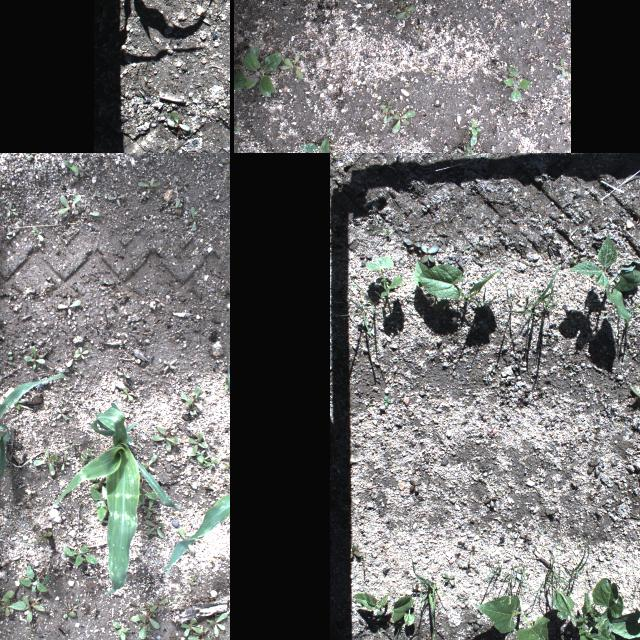crop: (54, 403, 188, 595), (0, 373, 68, 564), (569, 235, 640, 323), (166, 484, 230, 575), (545, 578, 623, 640), (412, 259, 500, 303), (476, 597, 554, 640), (352, 594, 422, 630), (608, 577, 640, 640), (366, 254, 404, 302), (226, 352, 230, 411)
weed: (508, 264, 560, 320), (409, 567, 438, 640), (242, 46, 282, 98), (334, 294, 374, 334), (130, 600, 167, 640), (403, 235, 443, 265), (90, 484, 118, 526), (17, 565, 51, 599), (502, 66, 534, 102), (32, 450, 70, 480), (484, 564, 524, 592), (147, 422, 180, 454), (56, 543, 95, 569), (0, 587, 25, 623), (176, 384, 202, 418), (540, 541, 558, 589), (186, 430, 208, 466), (449, 136, 493, 153), (18, 596, 46, 622), (22, 346, 46, 374), (574, 544, 590, 586), (391, 108, 415, 134), (297, 135, 330, 153), (280, 54, 304, 78), (64, 345, 88, 369), (55, 193, 81, 215), (56, 294, 82, 316), (102, 188, 128, 208), (187, 204, 203, 234), (440, 570, 464, 590), (49, 406, 69, 428), (180, 616, 200, 638), (212, 613, 228, 639), (144, 490, 160, 516), (167, 112, 189, 130), (32, 528, 54, 546), (61, 602, 79, 624), (144, 522, 166, 540), (394, 5, 416, 22), (188, 628, 219, 640), (175, 175, 192, 195), (2, 201, 20, 219), (482, 489, 500, 507), (112, 621, 129, 640), (379, 100, 395, 120), (120, 388, 140, 404), (158, 356, 178, 372), (404, 478, 424, 494), (627, 381, 640, 405), (4, 224, 26, 238), (32, 224, 48, 242), (138, 178, 158, 192), (185, 568, 199, 588), (348, 542, 362, 562), (586, 459, 600, 478), (112, 366, 132, 379), (202, 454, 218, 470), (466, 616, 482, 632), (62, 160, 80, 174), (556, 58, 568, 78), (454, 538, 474, 550), (520, 531, 534, 547), (378, 394, 394, 408), (233, 70, 244, 90), (391, 0, 405, 15), (23, 153, 39, 165), (144, 456, 154, 474), (513, 398, 531, 408), (466, 122, 480, 134), (546, 415, 558, 429), (413, 21, 423, 37), (428, 69, 442, 77), (220, 158, 230, 168), (227, 544, 230, 573), (464, 565, 474, 573), (226, 457, 230, 476), (234, 126, 242, 134), (82, 168, 90, 176)
